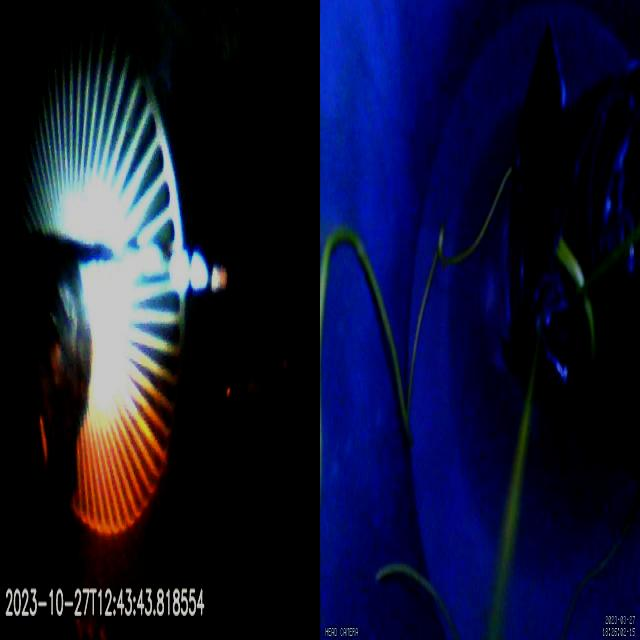white-dots: (172, 250, 228, 293)
